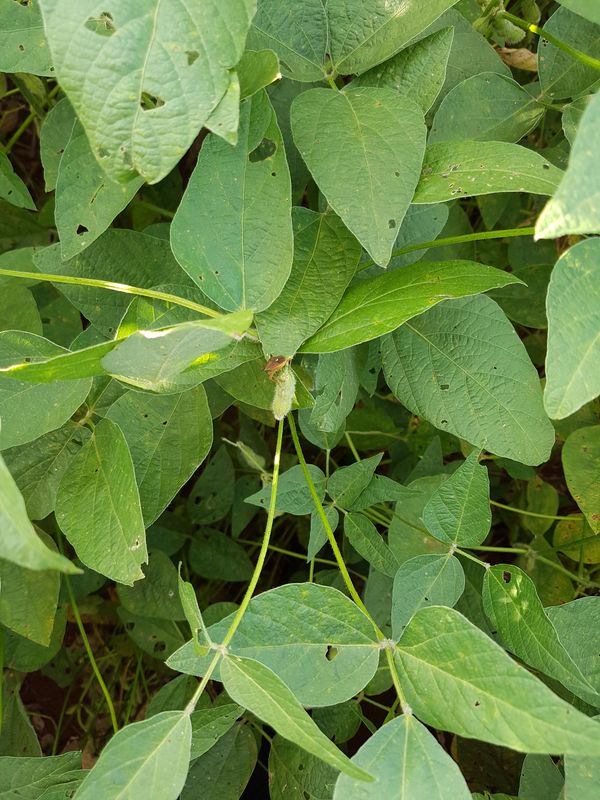Euschistus_heros_adulto: (257, 348, 296, 387)
